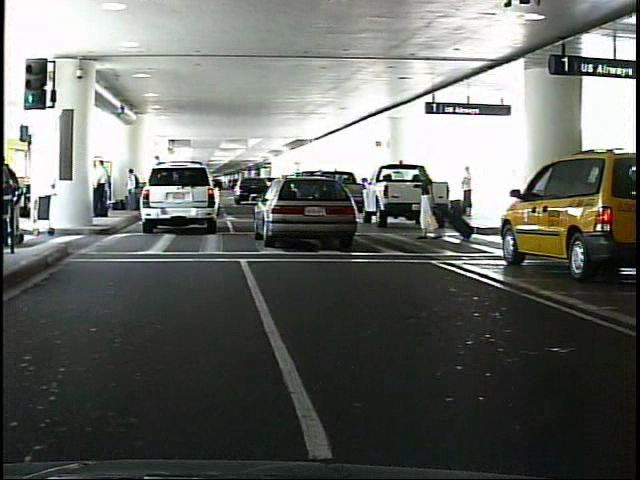person: (417, 164, 441, 243), (100, 159, 114, 218), (131, 166, 146, 217), (470, 163, 482, 209)
